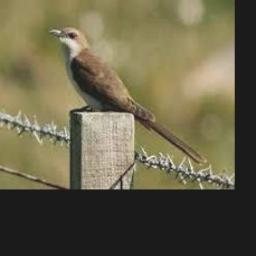Cuckoo: (48, 27, 206, 164)
